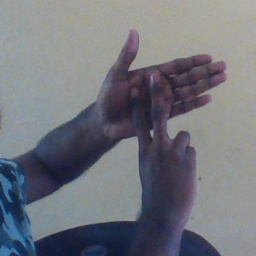N: (92, 26, 231, 191)
